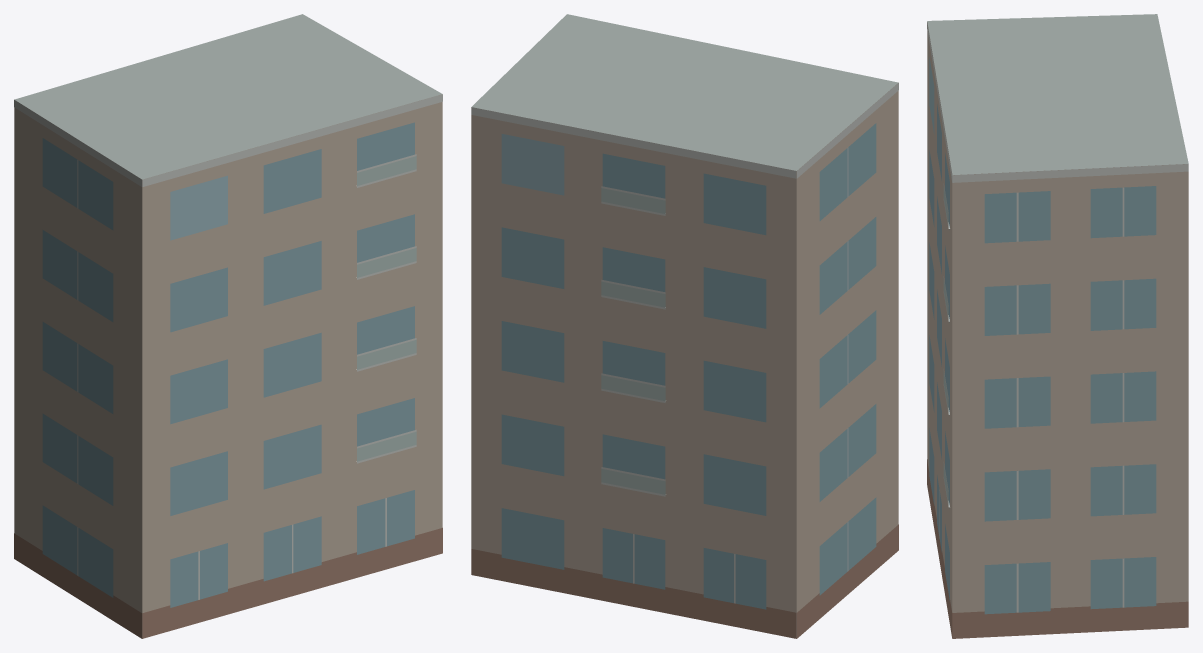
Rendered from survey-upis-32874859.glb.
The picture shows the model from 3 angles, left to right: view 1: azimuth 30°, elevation 25°; view 2: azimuth 150°, elevation 25°; view 3: azimuth 270°, elevation 25°; orthographic projection.
Visible parts, largest first — view 1: survey-upis-32874859.tmp; view 2: survey-upis-32874859.tmp; view 3: survey-upis-32874859.tmp.
Part boxes in pixels (box(x1,y1,x2,y2)): survey-upis-32874859.tmp: box(14, 14, 442, 638); survey-upis-32874859.tmp: box(471, 14, 898, 638); survey-upis-32874859.tmp: box(927, 14, 1188, 638).
Size of the model in its own units: 10.89 by 14.6 by 7.47.
